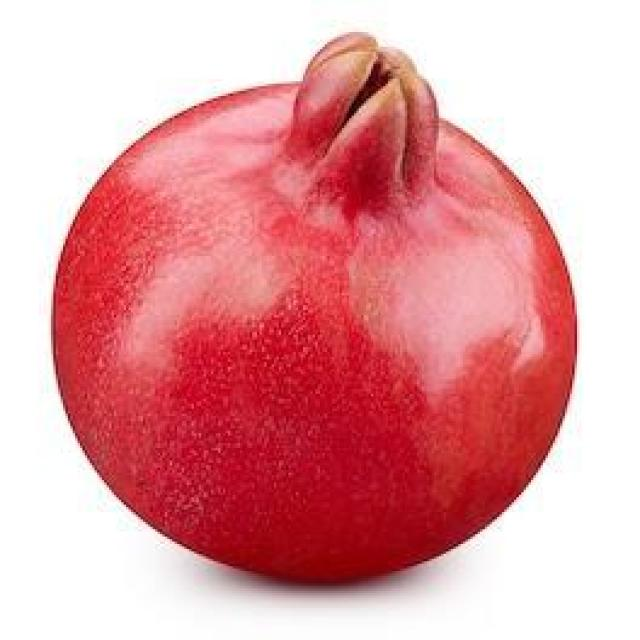Pomegranate: (47, 26, 580, 589)
